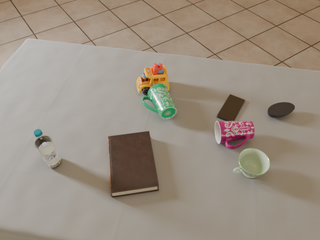book: (108, 131, 159, 197)
bottle: (34, 129, 61, 168)
cup: (142, 84, 177, 119), (233, 148, 270, 178), (215, 121, 254, 149)
mouse: (268, 102, 295, 118)
phone: (217, 94, 245, 121)
toy_car: (137, 63, 169, 95)
